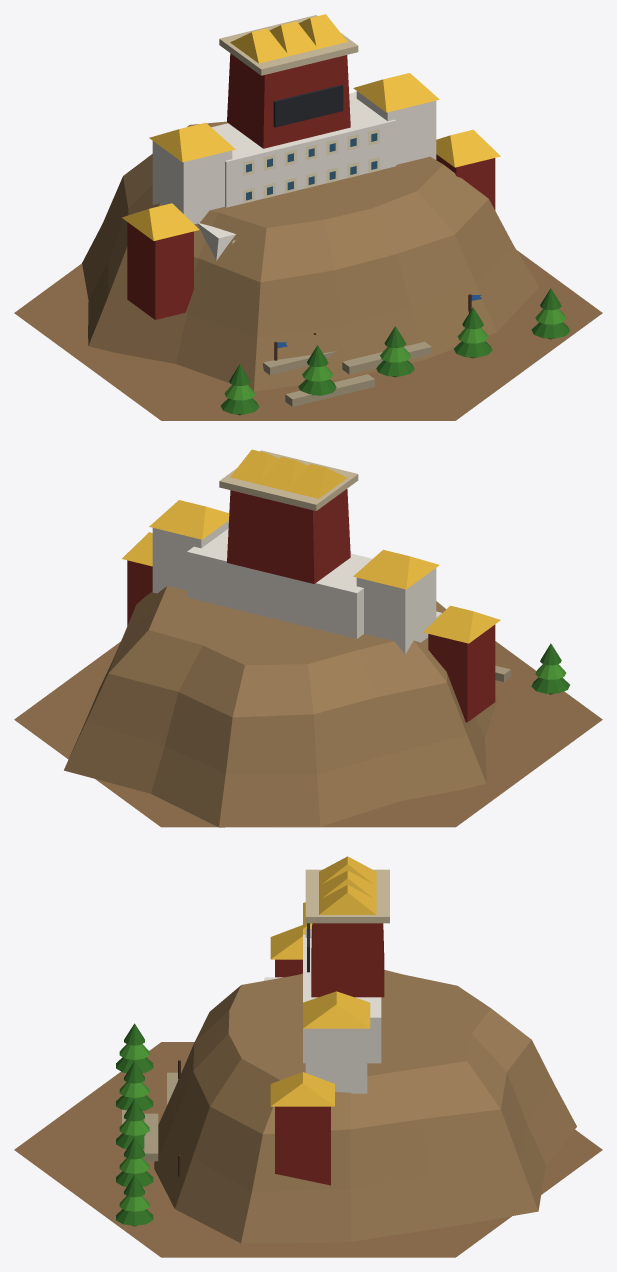
The model's file is wonder_potala_palace.fbx.
3 renders of one model, top to bottom at view 1: azimuth 30°, elevation 25°; view 2: azimuth 150°, elevation 25°; view 3: azimuth 270°, elevation 25°, orthographic.
Parts seen in each view (by area): view 1: wonder_potala_palace; view 2: wonder_potala_palace; view 3: wonder_potala_palace.
Boxes of the visible parts, <box> form: wonder_potala_palace: <box>14,14,602,420</box>; wonder_potala_palace: <box>14,449,602,827</box>; wonder_potala_palace: <box>14,856,602,1257</box>.
Bounding box in the file's own units: 182 × 109 × 210.
